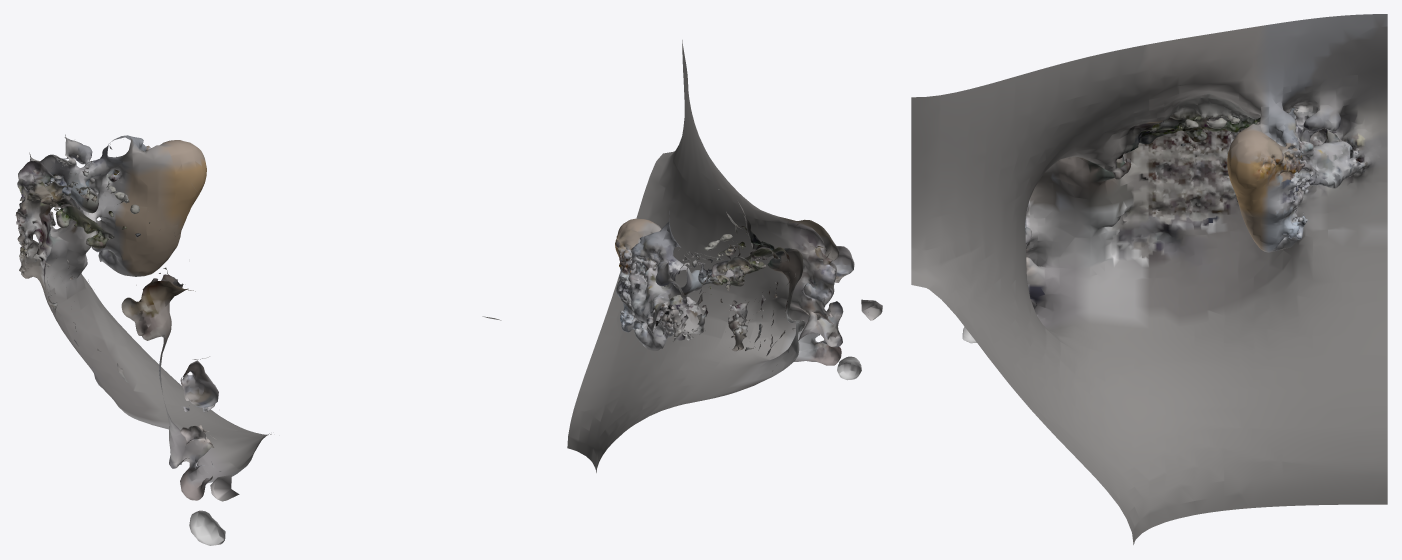
Rendered from mesh_scaled.glb.
3 views of the same model, side by side, from view 1: azimuth 30°, elevation 25°; view 2: azimuth 150°, elevation 25°; view 3: azimuth 270°, elevation 25° (orthographic). The views are drawn at different scales.
Size of the model in its own units: 21.29 by 31.09 by 31.09.
